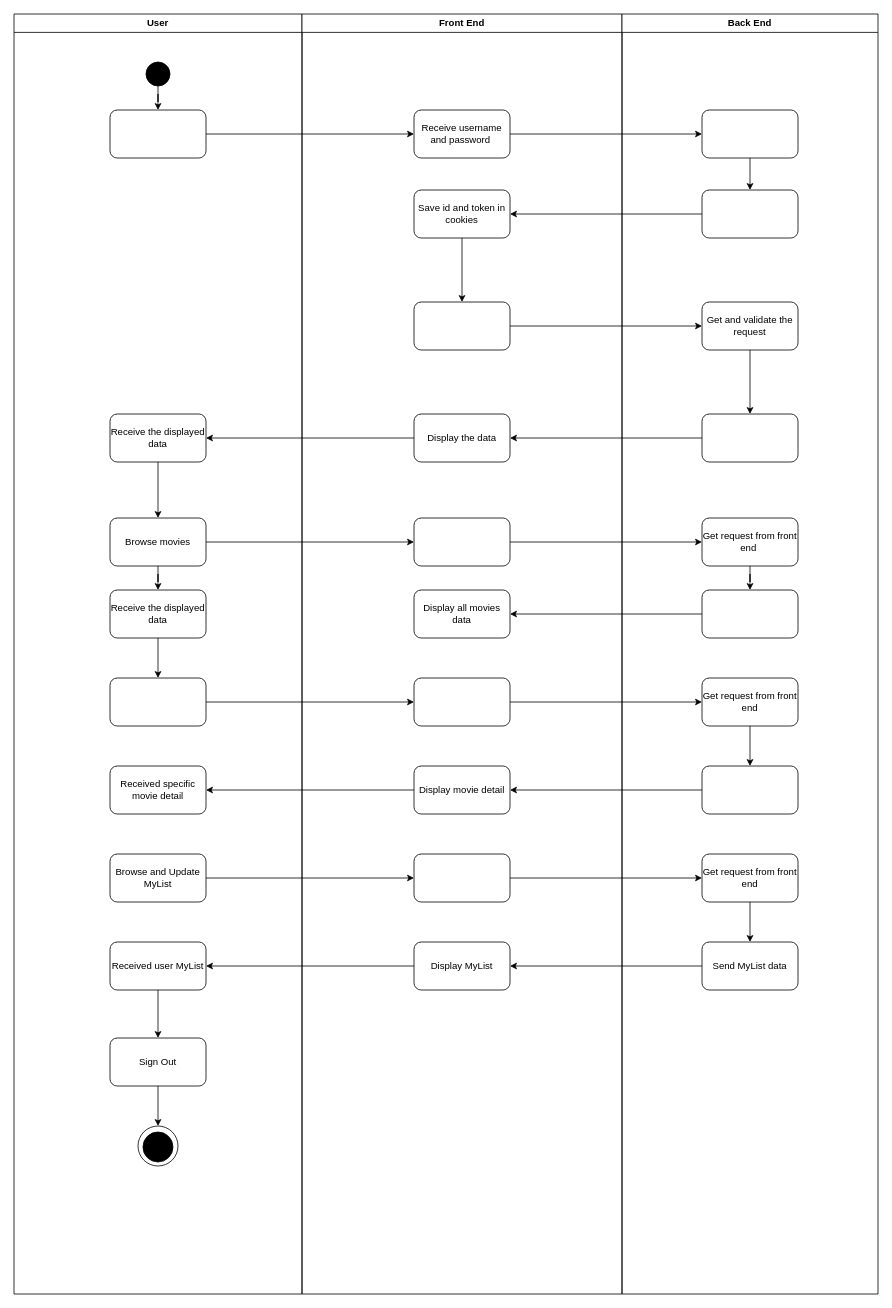
Image size: 892x1308. Some labels were removed from this diagram. Each missing label, with the centre of its shape:
"Process username and password" belongs at pixel 749 133.
"Request movies data, discussion data, and MyList data" belongs at pixel 461 325.
"See movie detail" belongs at pixel 157 701.
"Send all movie data" belongs at pixel 749 613.
"Send movie detail data" belongs at pixel 749 789.
"Send request all movies data" belongs at pixel 461 541.
"Send request for movie detail" belongs at pixel 461 701.
"Send request for MyList data" belongs at pixel 461 877.
"Send the id and authentication token" belongs at pixel 749 213.
"Send the movies data, discussion data, and MyList data" belongs at pixel 749 437.
"User log in to website" belongs at pixel 157 133.
